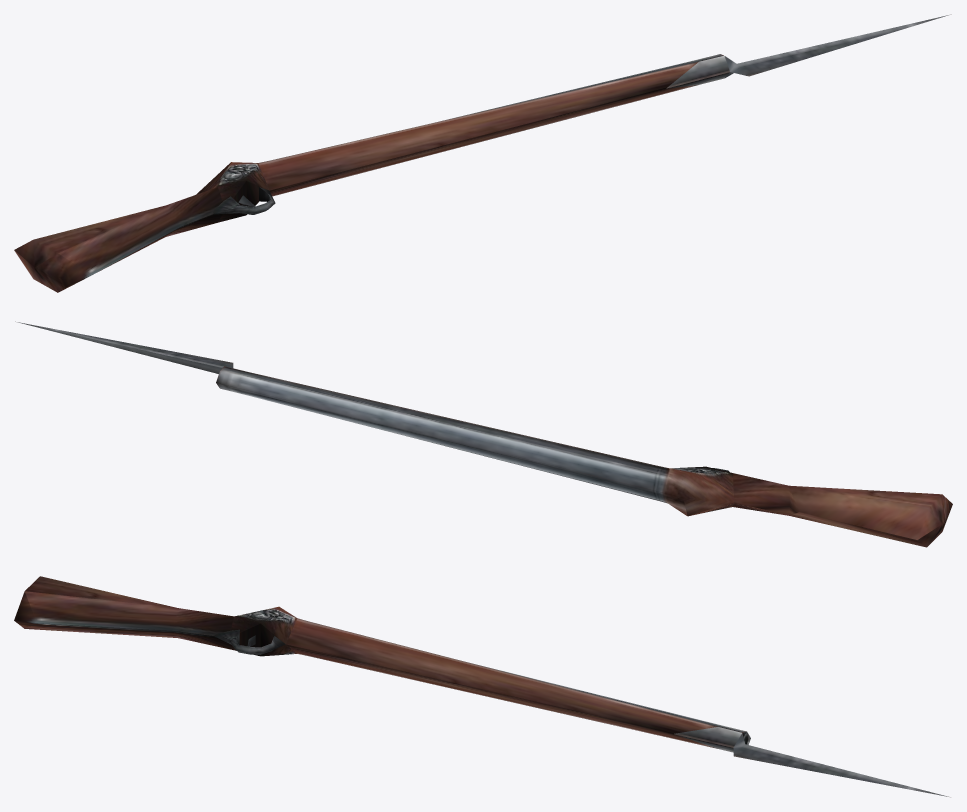
File: pir_m_hnd_gun_musket_a.fbx
3 views of the same model, one above another, from view 1: azimuth 30°, elevation 25°; view 2: azimuth 150°, elevation 25°; view 3: azimuth 330°, elevation 25° (orthographic). The views are drawn at different scales.
Parts seen in each view (by area): view 1: stock, bayonet, fingerLoop; view 2: stock, bayonet; view 3: stock, bayonet, fingerLoop.
Part boxes in pixels (x1=…): stock: x1=14, y1=54, x2=723, y2=292; bayonet: x1=666, y1=14, x2=951, y2=88; fingerLoop: x1=213, y1=187, x2=275, y2=214; stock: x1=216, y1=366, x2=952, y2=547; bayonet: x1=15, y1=321, x2=233, y2=373; stock: x1=14, y1=576, x2=750, y2=748; bayonet: x1=674, y1=727, x2=950, y2=797; fingerLoop: x1=214, y1=629, x2=285, y2=654.
Bounding box in the file's own units: 536 × 24.61 × 63.91.
1 material, 1 textured.
